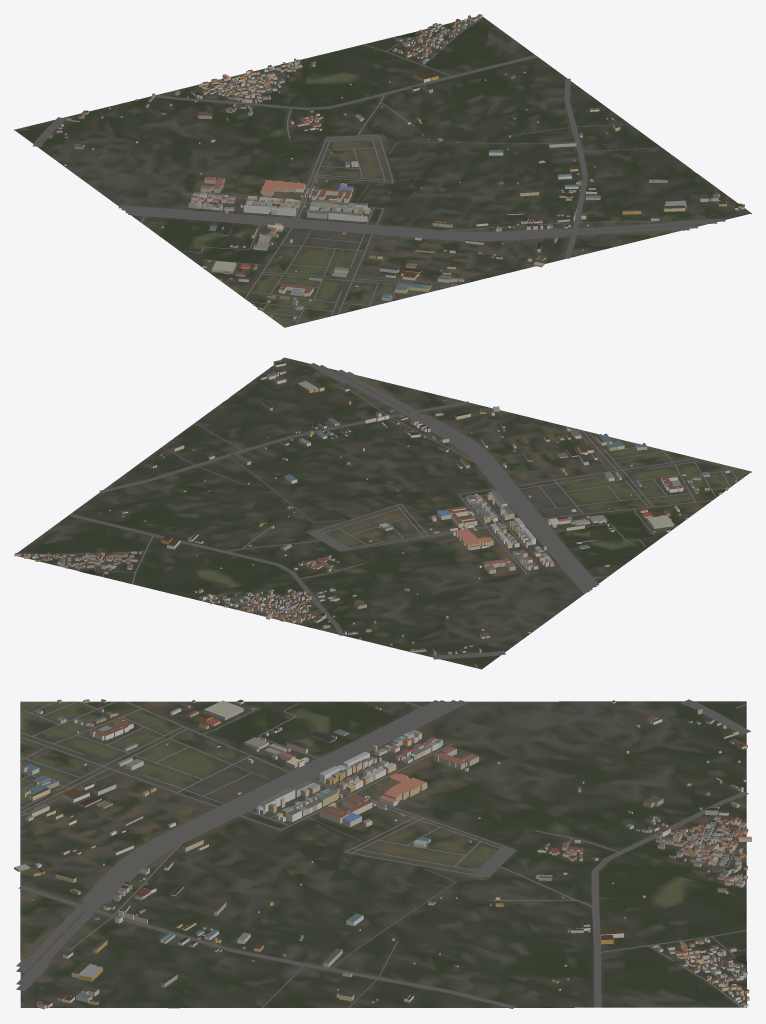
3 renders of one model, top to bottom at view 1: azimuth 30°, elevation 25°; view 2: azimuth 150°, elevation 25°; view 3: azimuth 270°, elevation 25°, orthographic. The views are drawn at different scales.
Parts seen in each view (by area): view 1: ground, buildings, roads; view 2: ground, buildings, roads; view 3: ground, buildings, roads.
Boxes of the visible parts, left/top/right/bottom form: ground: left=14, top=16, right=751, bottom=327; buildings: left=48, top=14, right=744, bottom=319; roads: left=18, top=16, right=725, bottom=324; ground: left=14, top=357, right=751, bottom=669; buildings: left=15, top=360, right=736, bottom=654; roads: left=21, top=363, right=739, bottom=668; ground: left=20, top=701, right=746, bottom=1008; buildings: left=14, top=699, right=751, bottom=1009; roads: left=16, top=699, right=750, bottom=1008.
Bounding box in the file's own units: 1415 × 21.56 × 1424.
